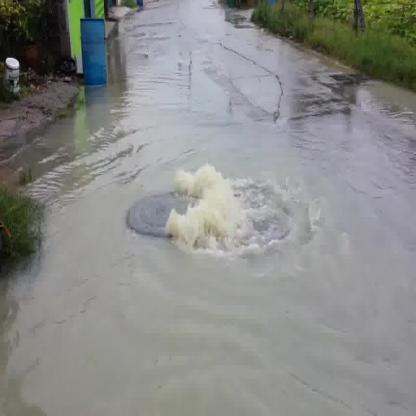drainage overflow-repair-: (88, 125, 292, 323)
